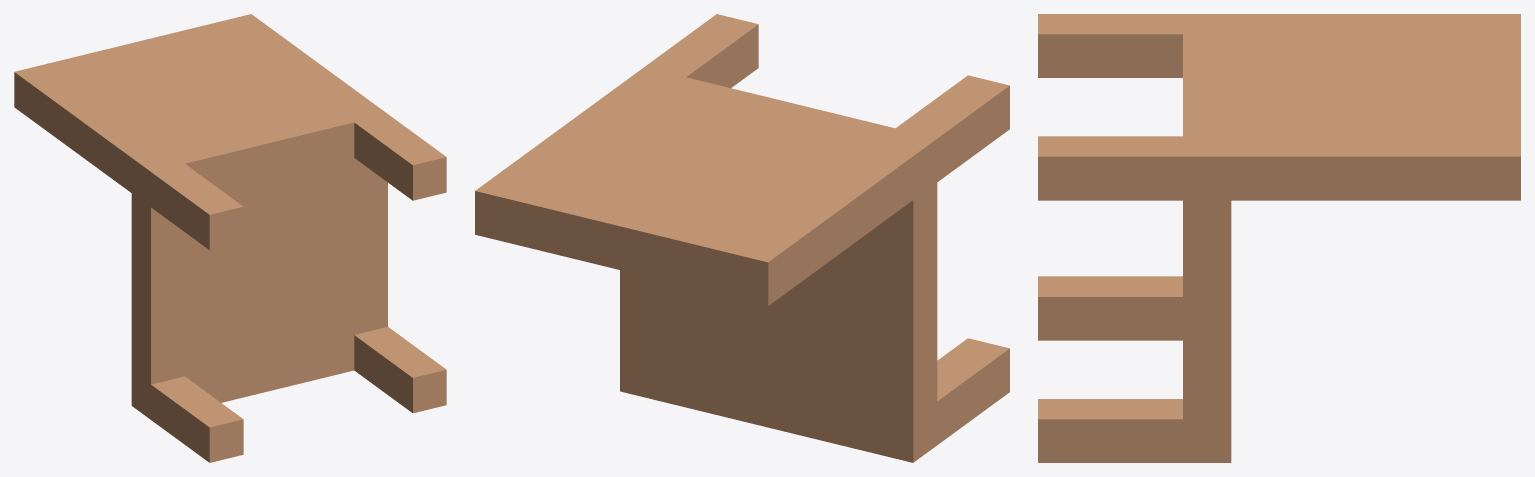
The model's file is acacia_chair_held.gltf.
The picture shows the model from 3 angles, left to right: view 1: azimuth 30°, elevation 25°; view 2: azimuth 150°, elevation 25°; view 3: azimuth 270°, elevation 25°; orthographic projection. The views are drawn at different scales.
Parts seen in each view (by area): view 1: building_acacia_chair_held; view 2: building_acacia_chair_held; view 3: building_acacia_chair_held.
Boxes of the visible parts, bbox=[...] form: building_acacia_chair_held: bbox=[14, 14, 446, 462]; building_acacia_chair_held: bbox=[475, 14, 1009, 462]; building_acacia_chair_held: bbox=[1038, 14, 1520, 462].
Size of the model in its own units: 0.112 by 0.112 by 0.16.
